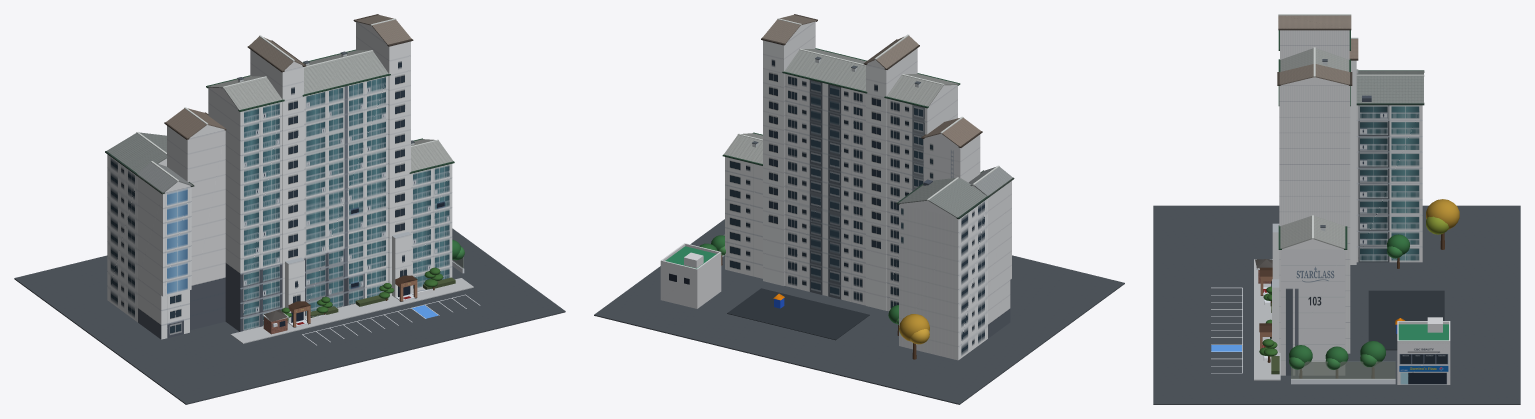
Rendered from place_극미103.glb.
3 renders of one model, left to right at view 1: azimuth 30°, elevation 25°; view 2: azimuth 150°, elevation 25°; view 3: azimuth 270°, elevation 25°, orthographic. The views are drawn at different scales.
Visible parts, largest first — view 1: KukdongMiraju_103_RealScale; view 2: KukdongMiraju_103_RealScale; view 3: KukdongMiraju_103_RealScale.
Boxes of the visible parts, x1,y1,x2,y2 form: KukdongMiraju_103_RealScale: (14, 14, 565, 404); KukdongMiraju_103_RealScale: (594, 14, 1124, 404); KukdongMiraju_103_RealScale: (1153, 14, 1520, 404).
Bounding box in the file's own units: 74 × 48.67 × 58.
131 materials, 36 textured.
